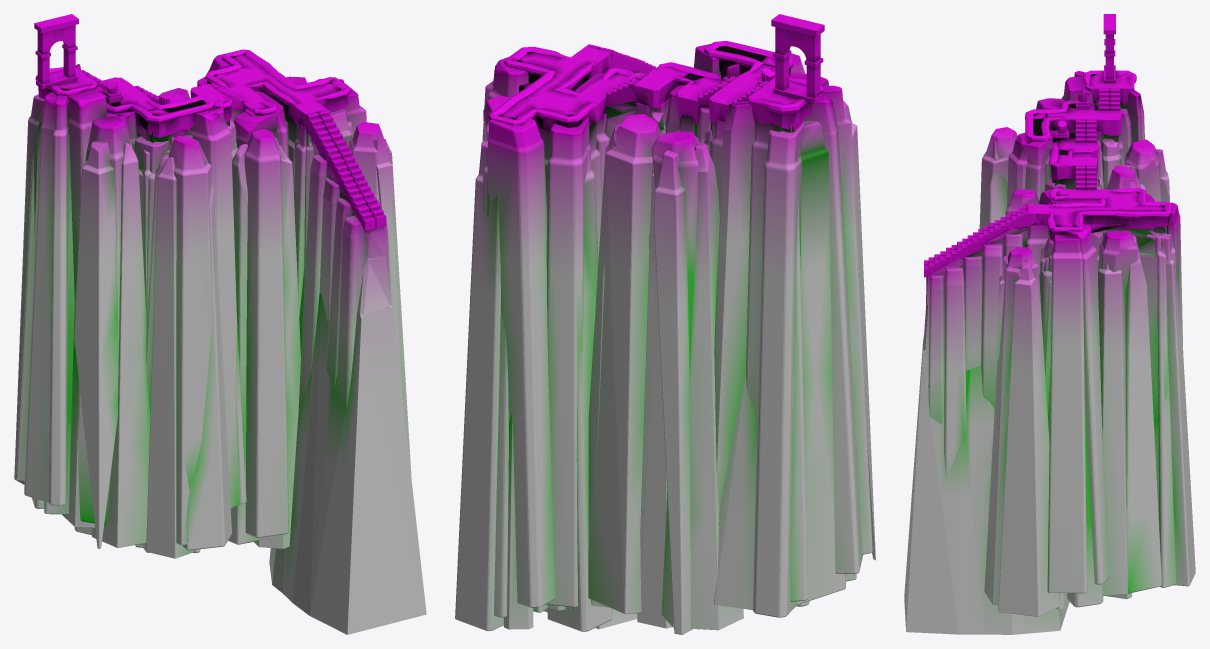
File: level.glb
The picture shows the model from 3 angles, left to right: view 1: azimuth 30°, elevation 25°; view 2: azimuth 150°, elevation 25°; view 3: azimuth 270°, elevation 25°; orthographic projection. The views are drawn at different scales.
Parts seen in each view (by area): view 1: rock, marble, snow; view 2: rock, marble, snow; view 3: rock, marble, snow.
Part boxes in pixels (box(x1,y1,x2,y2)): rock: box(14, 54, 426, 634); marble: box(34, 14, 386, 230); snow: box(35, 49, 350, 123); rock: box(455, 44, 875, 634); marble: box(499, 14, 824, 131); snow: box(488, 41, 823, 126); rock: box(904, 71, 1195, 634); marble: box(924, 14, 1169, 277); snow: box(1025, 70, 1171, 232).
Size of the model in its own units: 14.87 by 23.37 by 12.33.
